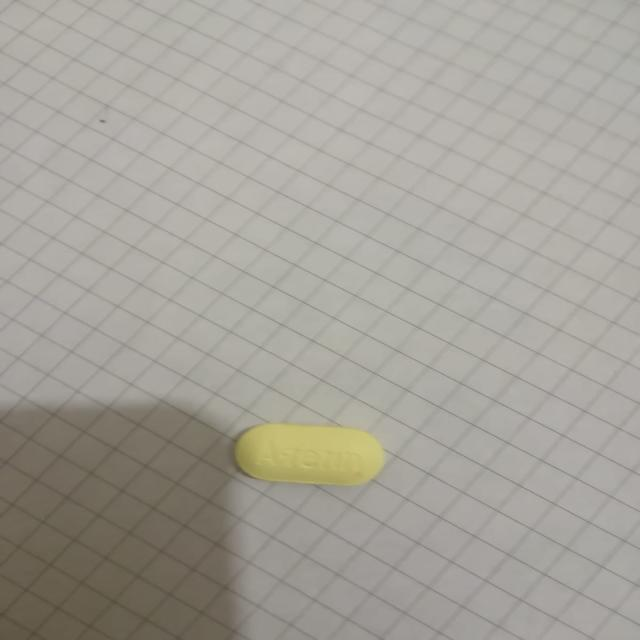pills: (218, 410, 404, 496)
